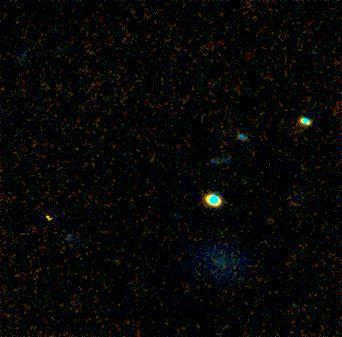star: (33, 206, 63, 236)
